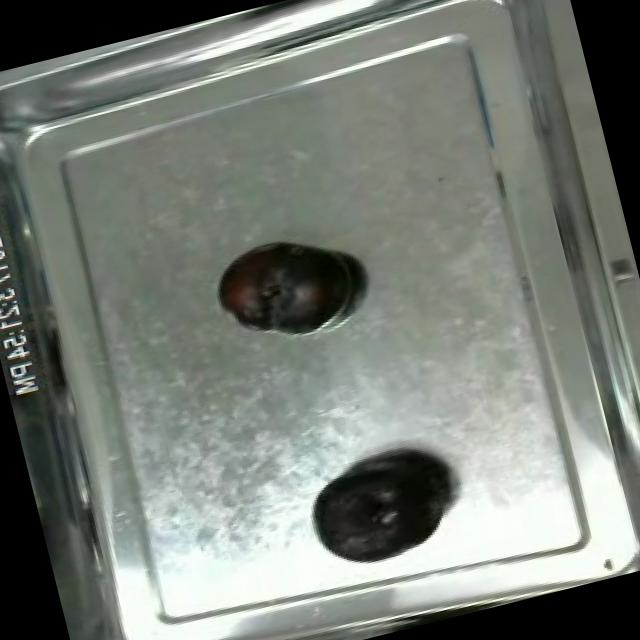Fruit: (298, 434, 470, 576), (202, 220, 366, 348)
